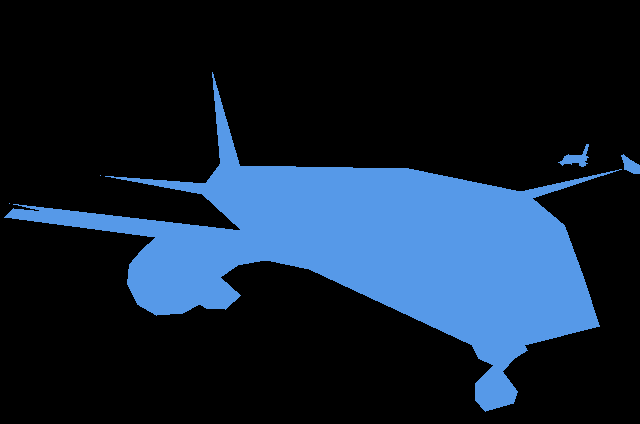Airplane: (4, 72, 624, 412), (558, 144, 589, 167), (621, 154, 640, 175)
